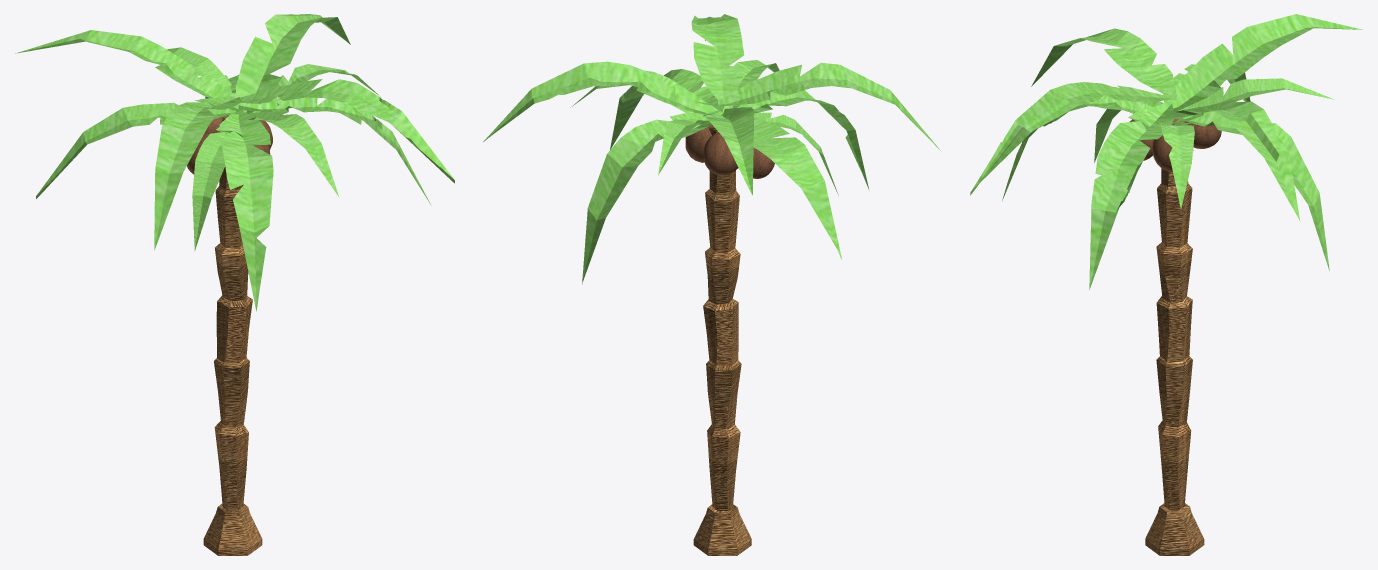
The model's file is cocotero.fbx.
3 views of the same model, side by side, from view 1: azimuth 30°, elevation 25°; view 2: azimuth 150°, elevation 25°; view 3: azimuth 270°, elevation 25° (orthographic).
Visible parts, largest first — view 1: Cylinder, Plane, Plane.004, Plane.006, Plane.005, Plane.007, Plane.003, Plane.008, Plane.001, Plane.009, Plane.011, Plane.010; view 2: Cylinder, Plane.006, Plane.002, Plane.004, Plane.003, Plane.005, Plane.007, Plane.001, Plane, Sphere.001, Plane.011, Plane.008 (+2 smaller); view 3: Cylinder, Plane.001, Plane.007, Plane.005, Plane.006, Plane.004, Plane.002, Plane.011, Plane.010, Sphere, Sphere.001, Plane.009 (+2 smaller).
Boxes of the visible parts, bbox=[...] form: Cylinder: bbox=[203, 115, 262, 555]; Plane: bbox=[219, 110, 273, 311]; Plane.004: bbox=[154, 96, 241, 250]; Plane.006: bbox=[235, 14, 350, 116]; Plane.005: bbox=[240, 79, 454, 183]; Plane.007: bbox=[15, 30, 243, 114]; Plane.003: bbox=[36, 102, 239, 198]; Plane.008: bbox=[192, 127, 229, 251]; Plane.001: bbox=[238, 96, 431, 205]; Plane.009: bbox=[241, 111, 339, 197]; Plane.011: bbox=[167, 47, 236, 98]; Plane.010: bbox=[252, 64, 380, 112]; Cylinder: bbox=[693, 124, 751, 555]; Plane.006: bbox=[483, 61, 717, 141]; Plane.002: bbox=[582, 112, 722, 284]; Plane.004: bbox=[718, 62, 941, 151]; Plane.003: bbox=[721, 113, 841, 259]; Plane.005: bbox=[691, 14, 744, 104]; Plane.007: bbox=[702, 107, 754, 195]; Plane.001: bbox=[610, 69, 724, 149]; Plane: bbox=[720, 90, 868, 189]; Sphere.001: bbox=[703, 132, 774, 178]; Plane.011: bbox=[658, 119, 711, 175]; Plane.008: bbox=[754, 112, 838, 195]; Cylinder: bbox=[1145, 119, 1204, 555]; Plane.001: bbox=[1089, 103, 1174, 289]; Plane.007: bbox=[1167, 14, 1362, 111]; Plane.005: bbox=[970, 82, 1172, 195]; Plane.006: bbox=[1164, 99, 1300, 221]; Plane.004: bbox=[1031, 28, 1177, 101]; Plane.002: bbox=[1173, 107, 1329, 270]; Plane.011: bbox=[1172, 78, 1334, 124]; Plane.010: bbox=[1155, 122, 1194, 208]; Sphere: bbox=[1130, 119, 1193, 171]; Sphere.001: bbox=[1187, 122, 1221, 148]; Plane.009: bbox=[1070, 95, 1151, 113].
Bounding box in the file's own units: 1884 × 2572 × 1887.
3 materials, 3 textured.
